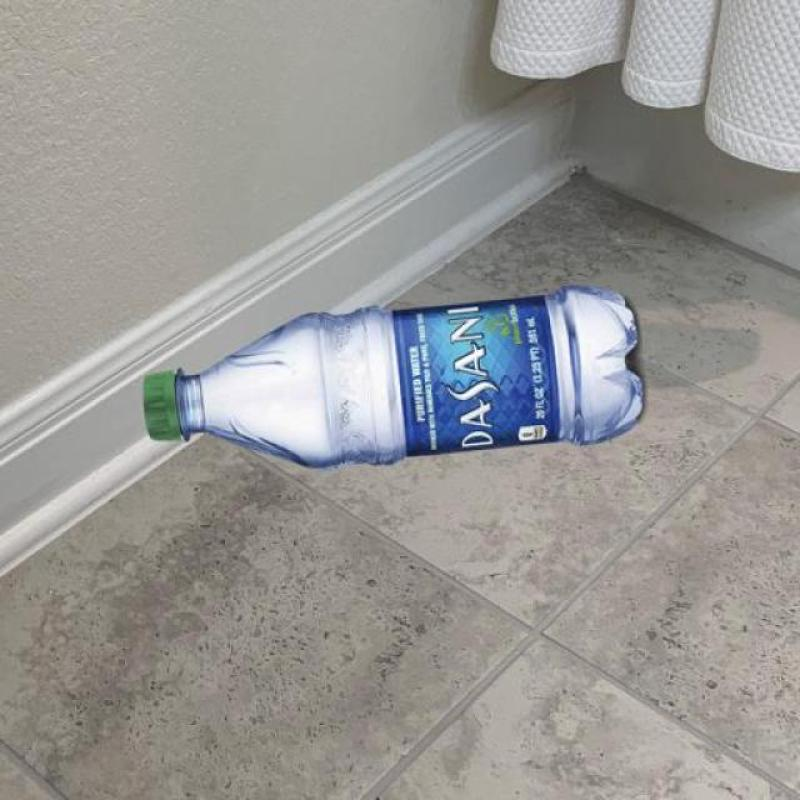botella: (145, 284, 646, 468)
